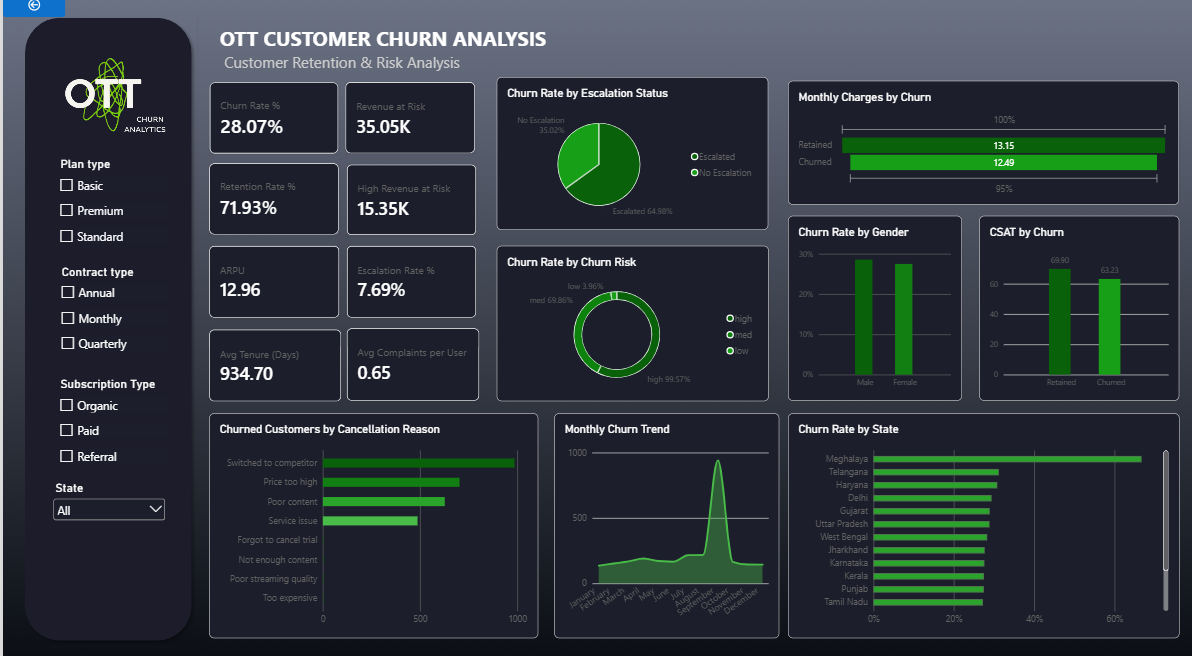

What the dashboard file says about the page in this screenshot:
{"tool":"powerbi","page":{"name":"Page 1","canvas":[1920,1080],"ordinal":0},"visuals":[{"type":"shape","box":[26.7,31.7,285,1015],"z":0},{"type":"cardVisual","fields":{"Data":["db_customer.Churn Rate %"]},"box":[330,144,207.5,115],"z":2000},{"type":"cardVisual","fields":{"Data":["db_customer.Avg Tenure (Days)"]},"box":[330,540,211.4,115.7],"z":3000},{"type":"cardVisual","fields":{"Data":["db_customer.ARPU"]},"box":[330,406,208.6,115.7],"z":4000},{"type":"cardVisual","fields":{"Data":["db_customer.Escalation Rate %"]},"box":[550,405.6,207.8,115.6],"z":5000},{"type":"cardVisual","fields":{"Data":["db_customer.Revenue at Risk"]},"box":[548.9,144.4,207.8,114.4],"z":6000},{"type":"cardVisual","title":"High Risk Revenue","fields":{"Data":["db_customer.High Risk Revenue at Risk"]},"box":[550,275.6,207.8,113.3],"z":7000},{"type":"cardVisual","fields":{"Data":["db_customer.Retention Rate %"]},"box":[330,274,207.8,114.4],"z":8000},{"type":"cardVisual","fields":{"Data":["db_customer.Avg Complaints per User"]},"box":[550,538.9,212.2,116.7],"z":9000},{"type":"clusteredBarChart","title":"Churn Rate by State","fields":{"Category":["db_customer.state"],"Y":["db_customer.Churn Rate %"]},"box":[1256,674,626,360],"z":12000},{"type":"clusteredBarChart","title":"Churned Customers by Cancellation Reason","fields":{"Category":["db_subscription.cancellation_reason"],"Y":["Sum(db_subscription.Churn Flag)"]},"box":[330,674,526,360],"z":13000},{"type":"clusteredColumnChart","title":"Churn Rate by Gender","fields":{"Category":["db_customer.gender"],"Y":["db_customer.Churn Rate %"]},"box":[1256,358,278,296],"z":14000},{"type":"funnel","title":"Monthly Charges by Churn","fields":{"Category":["db_subscription.Churn Status"],"Y":["Avg(db_subscription.monthly_charges)"]},"box":[1256.5,142.2,625.5,198.8],"z":15000},{"type":"clusteredColumnChart","title":"CSAT by Churn","fields":{"Category":["db_subscription.Churn Status"],"Y":["Avg(db_support.csat_score)"]},"box":[1562,358,320,296],"z":16000},{"type":"pieChart","title":"Churn Rate by Escalation Status","fields":{"Category":["db_support.Escalation Status"],"Y":["Avg(db_support.Customer Churn Flag)"]},"box":[790,136.7,434.4,244.4],"z":17000},{"type":"actionButton","box":[0,0,100,40],"z":18000},{"type":"donutChart","title":"Churn Rate by Churn Risk","fields":{"Category":["db_subscription.Churn Risk"],"Y":["db_customer.Churn Rate %"]},"box":[790,405.6,435.6,248.9],"z":19000},{"type":"areaChart","title":"Monthly Churn Trend","fields":{"Category":["db_subscription.cancellation_date.Variation.Date Hierarchy.Month"],"Y":["Sum(db_subscription.Churn Flag)"]},"box":[882,674,360,360],"z":20000},{"type":"textbox","box":[346,52,524,80],"z":21000},{"type":"textbox","box":[353.3,95,436.7,93.3],"z":22000},{"type":"slicer","fields":{"Values":["db_subscription.plan_type"]},"box":[83.3,263.3,181.7,148.3],"z":23000},{"type":"slicer","fields":{"Values":["db_subscription.contract_type"]},"box":[85,436.7,180,150],"z":24000},{"type":"slicer","fields":{"Values":["db_customer.state"]},"box":[76.7,781.7,188.3,150],"z":25000},{"type":"slicer","fields":{"Values":["db_subscription.Subscription Type Clean"]},"box":[83.3,615,181.7,150],"z":26000},{"type":"image","box":[16.7,20,295,288.3],"z":27000}]}

Visuals, with their boxes on the page's 1920x1080 design canvas (x1, y1, x2, y2). These are canvas units, not pixel positions in the 1192x656 screenshot, which may show the page scaled, cropped or inside an application window:
shape: BBox(27, 32, 312, 1047)
cardVisual - db_customer.Churn Rate %: BBox(330, 144, 538, 259)
cardVisual - db_customer.Avg Tenure (Days): BBox(330, 540, 541, 656)
cardVisual - db_customer.ARPU: BBox(330, 406, 539, 522)
cardVisual - db_customer.Escalation Rate %: BBox(550, 406, 758, 521)
cardVisual - db_customer.Revenue at Risk: BBox(549, 144, 757, 259)
"High Risk Revenue" cardVisual: BBox(550, 276, 758, 389)
cardVisual - db_customer.Retention Rate %: BBox(330, 274, 538, 388)
cardVisual - db_customer.Avg Complaints per User: BBox(550, 539, 762, 656)
"Churn Rate by State" clusteredBarChart: BBox(1256, 674, 1882, 1034)
"Churned Customers by Cancellation Reason" clusteredBarChart: BBox(330, 674, 856, 1034)
"Churn Rate by Gender" clusteredColumnChart: BBox(1256, 358, 1534, 654)
"Monthly Charges by Churn" funnel: BBox(1256, 142, 1882, 341)
"CSAT by Churn" clusteredColumnChart: BBox(1562, 358, 1882, 654)
"Churn Rate by Escalation Status" pieChart: BBox(790, 137, 1224, 381)
actionButton: BBox(0, 0, 100, 40)
"Churn Rate by Churn Risk" donutChart: BBox(790, 406, 1226, 654)
"Monthly Churn Trend" areaChart: BBox(882, 674, 1242, 1034)
textbox: BBox(346, 52, 870, 132)
textbox: BBox(353, 95, 790, 188)
slicer - db_subscription.plan_type: BBox(83, 263, 265, 412)
slicer - db_subscription.contract_type: BBox(85, 437, 265, 587)
slicer - db_customer.state: BBox(77, 782, 265, 932)
slicer - db_subscription.Subscription Type Clean: BBox(83, 615, 265, 765)
image: BBox(17, 20, 312, 308)
